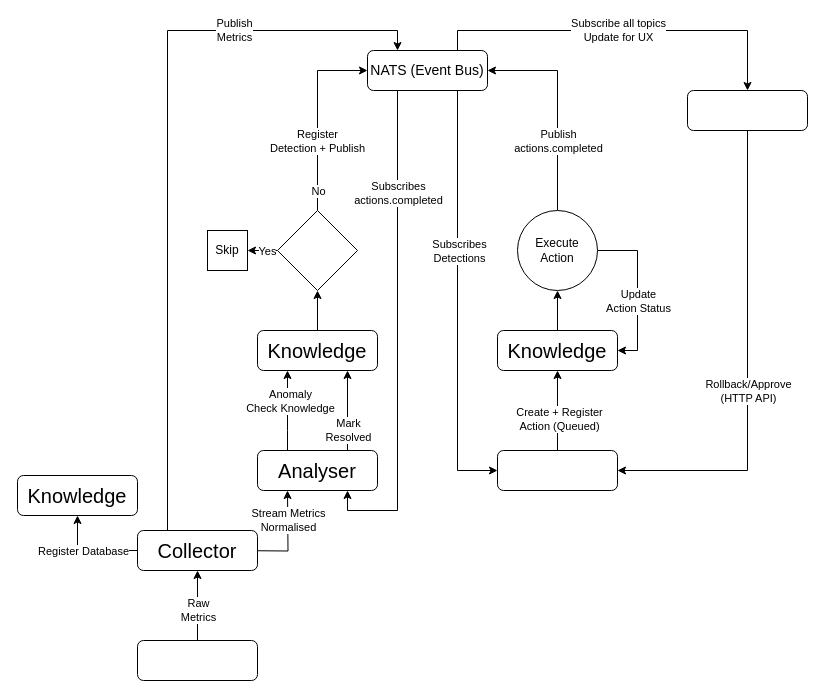
The diagram is 825 pixels wide and 698 high, and some of its shapes have lost their labels. Each missing label, with the centre of its shape:
"Dashboard" goes at (747,110).
"Detection Exists?" goes at (317,250).
"Executor" goes at (557,470).
"Target DB" goes at (197,660).
